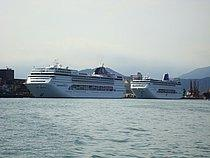Ship: (21, 58, 130, 103), (130, 71, 189, 104)
